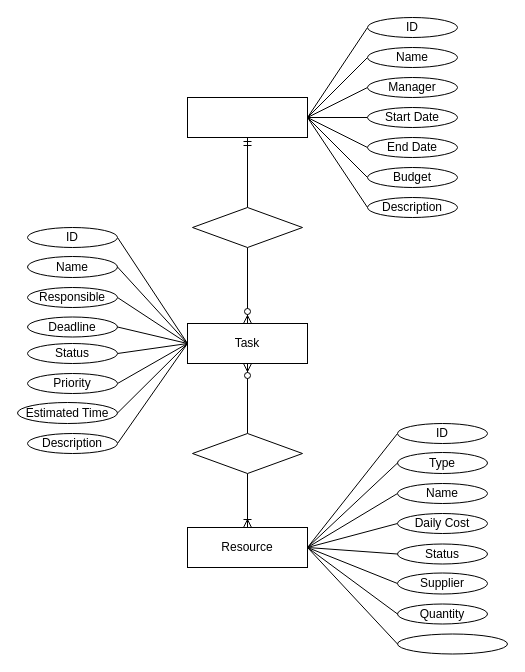
Some shapes in this 525 by 672 pixel diagram are drawn without their labels. The shapes that lost their labels are listed below. From the top down, each one's box as (x1, y1, x2, y2) in pixels, then its label:
(186, 96, 308, 138): Project
(192, 206, 302, 248): belong
(192, 432, 302, 474): link
(396, 633, 508, 654): Acquisition Date
